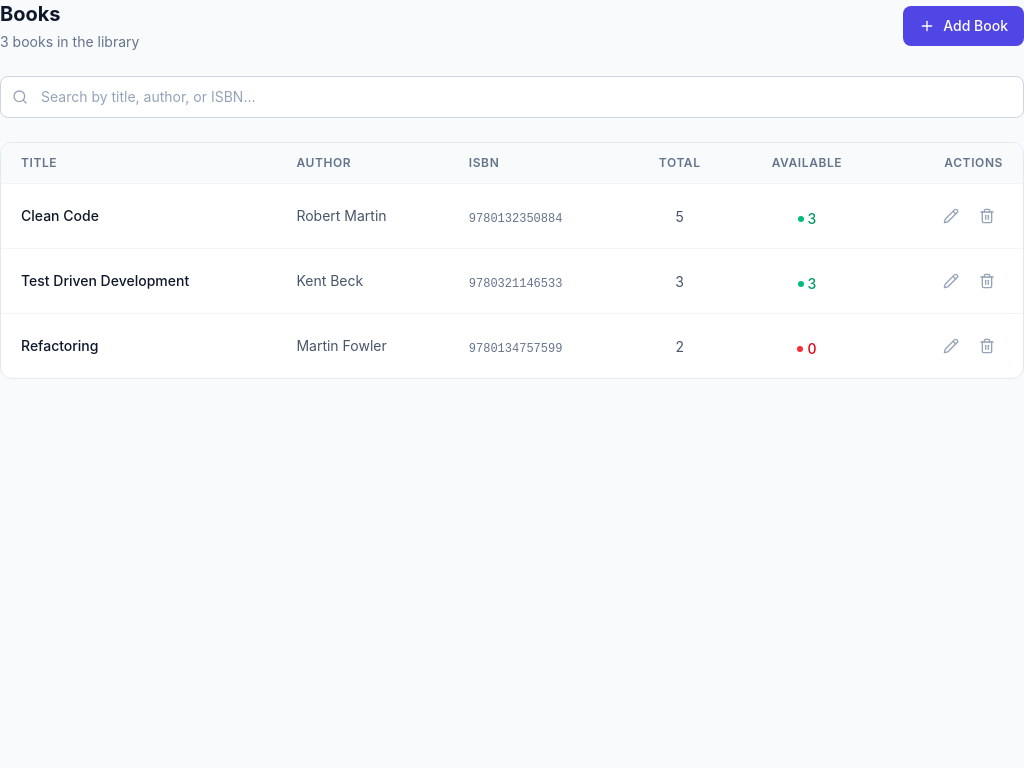
Scenario: Books › shows validation errors when update fails with validation errors
Expected: the text "Clean Code" is shown, x1=21 y1=207 x2=99 y2=224
Note: Open edit modal
Step 1. Click the button titled "Edit book" in the row of "Clean Code" → (951, 216), box x1=935 y1=200 x2=967 y2=232
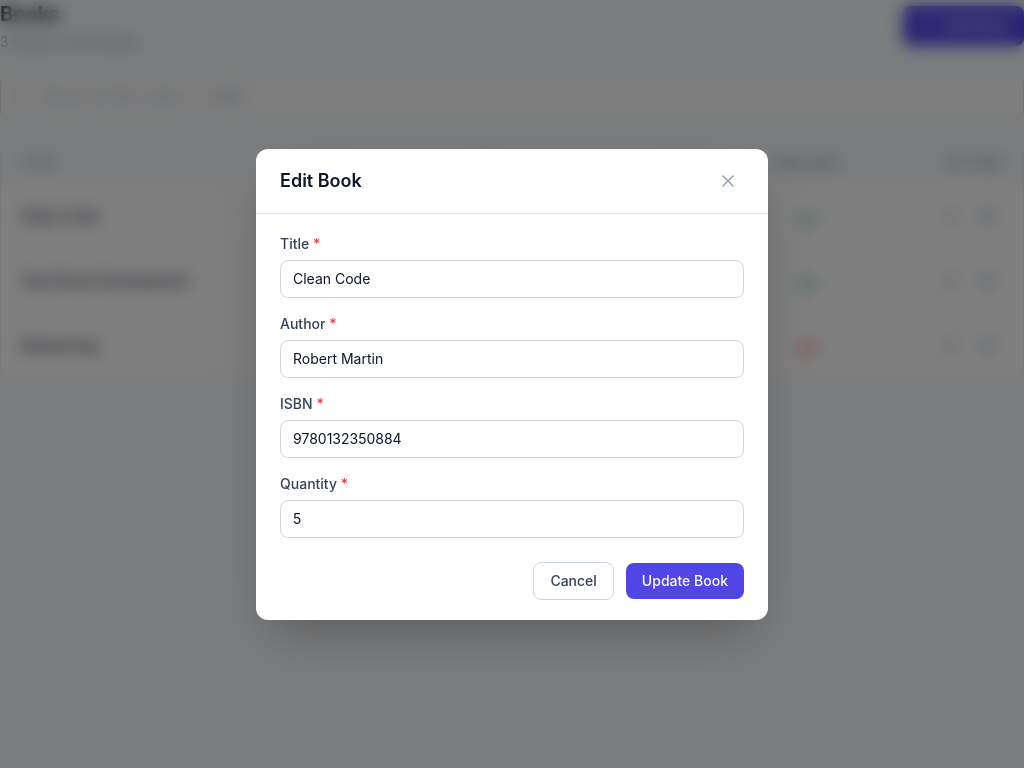
Step 2. Click the button "Update Book" → (685, 580), box x1=626 y1=562 x2=744 y2=598
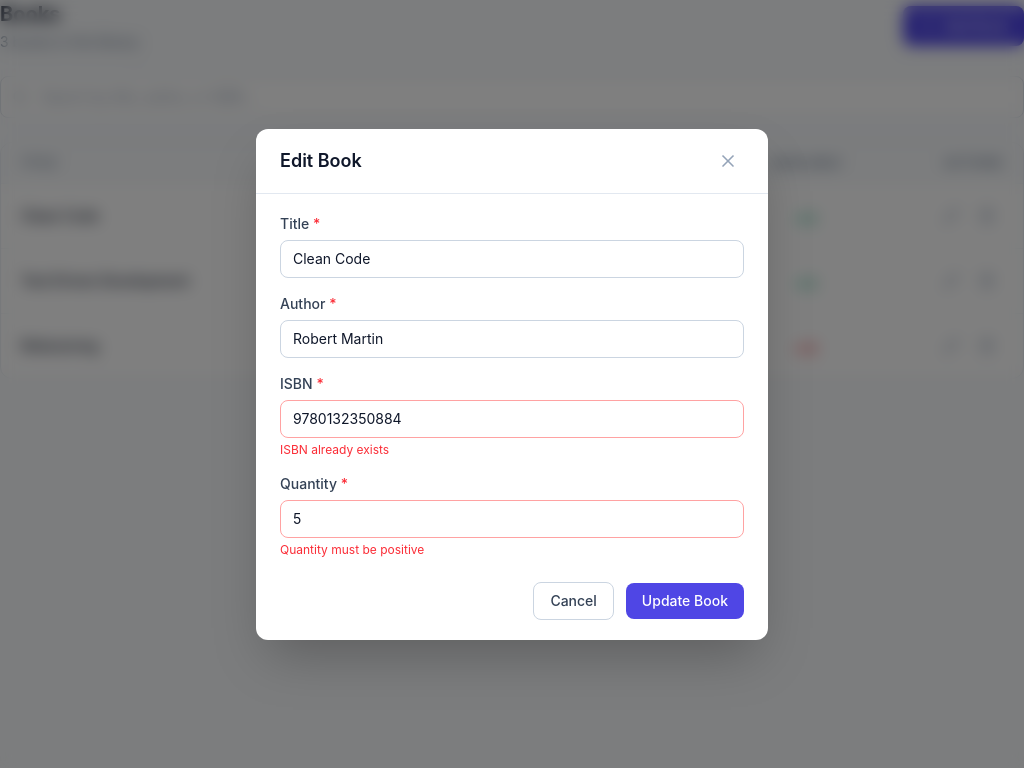
Expected: the text "ISBN already exists" is shown, x1=280 y1=442 x2=389 y2=456
Expected: the text "Quantity must be positive" is shown, x1=280 y1=542 x2=424 y2=556
